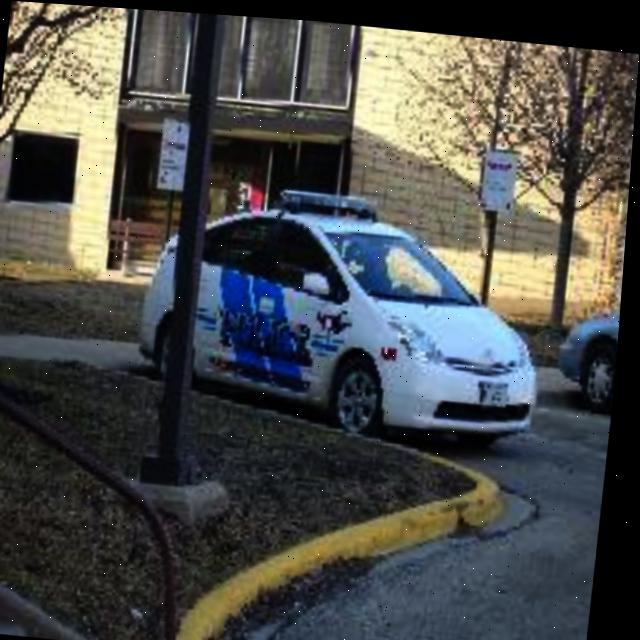emergency: (167, 165, 561, 432)
